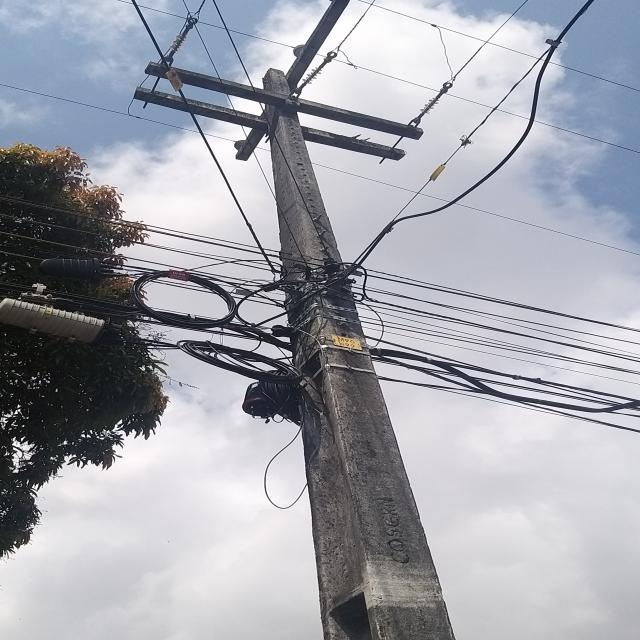Plaqueta: (168, 270, 189, 282)
